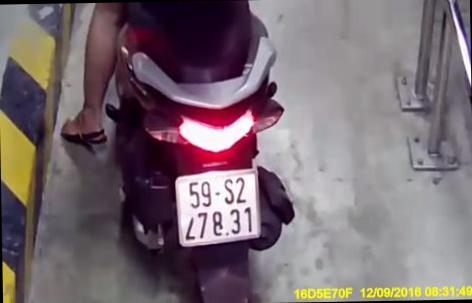LP: (175, 174, 262, 245)
